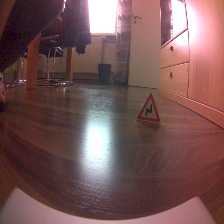vorsicht: (134, 92, 163, 124)
